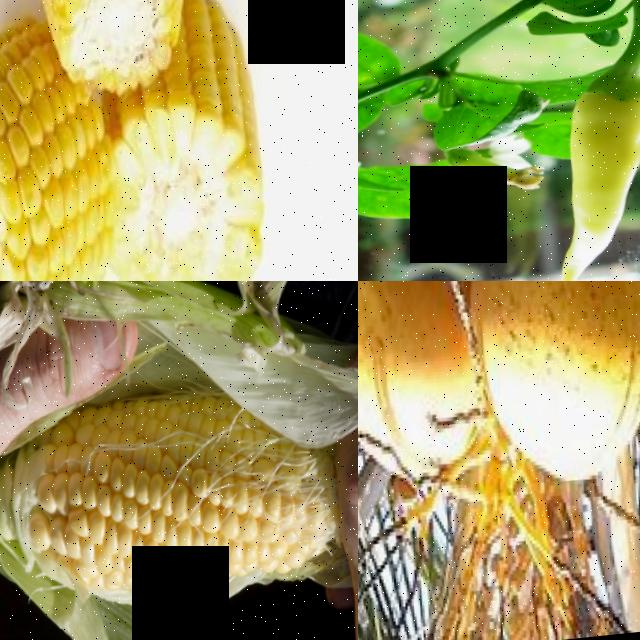chilli: (530, 76, 640, 281)
coconut: (449, 281, 640, 502), (358, 281, 483, 493)
corn: (19, 393, 312, 614), (99, 49, 275, 281), (0, 39, 116, 281), (8, 0, 195, 72)
